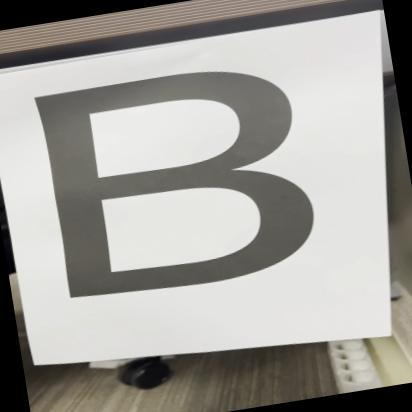seat: (13, 40, 347, 316)
